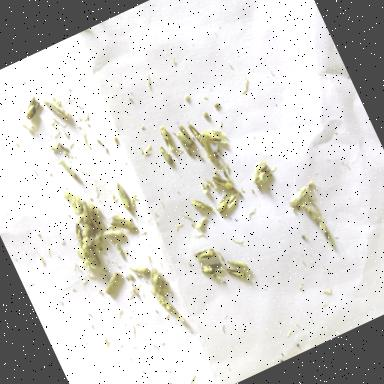pbw: (109, 210, 140, 238), (99, 268, 128, 296), (210, 188, 240, 214), (201, 124, 230, 150), (284, 185, 314, 210), (42, 92, 67, 122), (112, 180, 134, 211), (210, 169, 235, 195), (20, 95, 45, 121), (190, 192, 214, 218), (199, 132, 219, 162), (199, 257, 225, 279), (186, 121, 206, 149), (126, 256, 149, 280), (225, 262, 248, 284), (175, 130, 193, 158), (101, 222, 126, 242), (158, 125, 176, 152), (194, 245, 216, 263), (178, 122, 194, 146), (228, 255, 248, 274), (157, 144, 174, 166), (180, 131, 192, 148)
